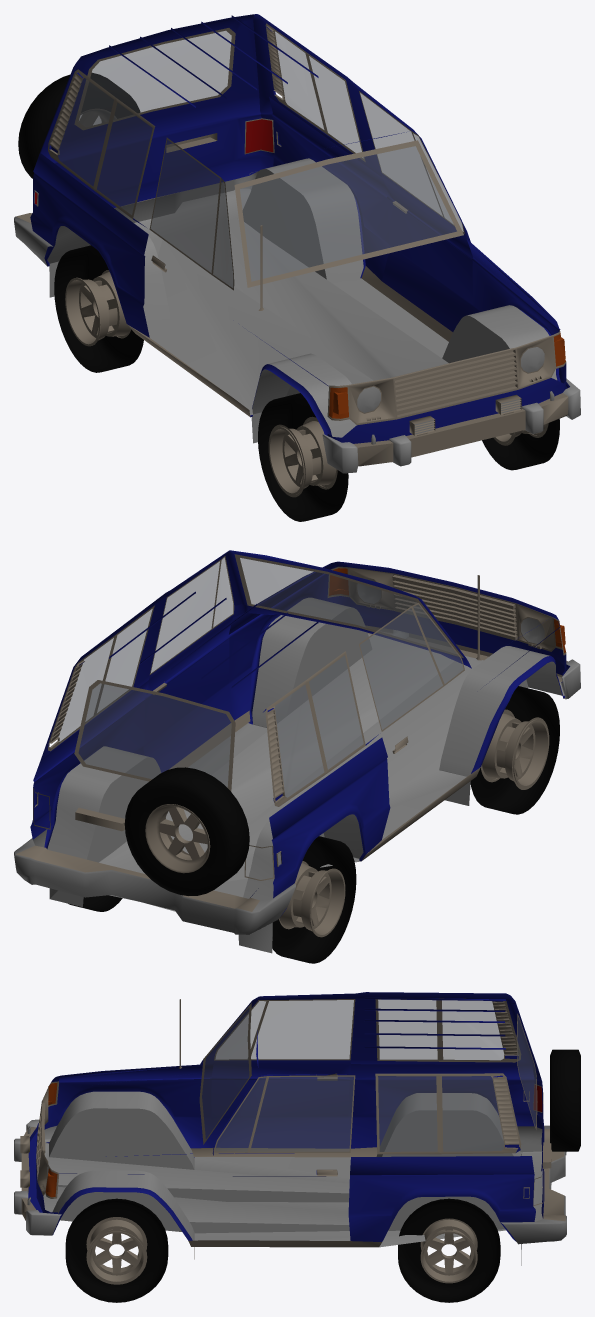
File: jeep3.fbx
3 views of the same model, one above another, from view 1: azimuth 30°, elevation 25°; view 2: azimuth 150°, elevation 25°; view 3: azimuth 270°, elevation 25° (orthographic). The views are drawn at different scales.
Visible parts, largest first — view 1: Polygon_18, Polygon, Polygon_4, Polygon_9, Polygon_6, Polygon_23, Polygon_7, Polygon_3, Polygon_5, Polygon_24, Polygon_22, Polygon_14 (+10 smaller); view 2: Polygon_18, Polygon, Polygon_9, Polygon_6, Polygon_23, Polygon_7, Polygon_2, Polygon_8, Polygon_5, Polygon_3, Polygon_22, Polygon_24 (+9 smaller); view 3: Polygon_18, Polygon, Polygon_6, Polygon_7, Polygon_9, Polygon_23, Polygon_8, Polygon_5, Polygon_22, Polygon_3, Polygon_24, Polygon_25 (+7 smaller).
Part boxes in pixels (box(x1,y1,x2,y2)): Polygon_18: box(47, 158, 557, 437); Polygon: box(58, 31, 463, 287); Polygon_4: box(41, 14, 274, 207); Polygon_9: box(34, 23, 566, 424); Polygon_6: box(30, 97, 390, 337); Polygon_23: box(18, 73, 559, 521); Polygon_7: box(358, 89, 473, 331); Polygon_3: box(16, 172, 566, 425); Polygon_5: box(40, 14, 466, 230); Polygon_24: box(268, 416, 548, 497); Polygon_22: box(54, 245, 143, 372); Polygon_14: box(354, 393, 568, 466); Polygon_18: box(47, 597, 563, 934); Polygon: box(58, 557, 463, 797); Polygon_9: box(33, 554, 566, 880); Polygon_6: box(30, 680, 390, 915); Polygon_23: box(124, 686, 559, 895); Polygon_7: box(143, 555, 235, 772); Polygon_2: box(14, 829, 295, 934); Polygon_8: box(228, 561, 566, 773); Polygon_5: box(34, 550, 466, 802); Polygon_3: box(16, 566, 566, 911); Polygon_22: box(68, 836, 356, 963); Polygon_24: box(480, 709, 549, 789); Polygon_18: box(43, 1091, 558, 1247); Polygon: box(202, 999, 536, 1151); Polygon_6: box(348, 1064, 535, 1241); Polygon_7: box(211, 998, 356, 1176); Polygon_9: box(36, 998, 551, 1259); Polygon_23: box(65, 1049, 580, 1302); Polygon_8: box(46, 1064, 214, 1240); Polygon_5: box(209, 992, 541, 1152); Polygon_22: box(398, 1198, 500, 1302); Polygon_3: box(36, 999, 565, 1247); Polygon_24: box(86, 1217, 147, 1284); Polygon_25: box(420, 1218, 477, 1283).
Size of the model in its own units: 141 by 154 by 337.
